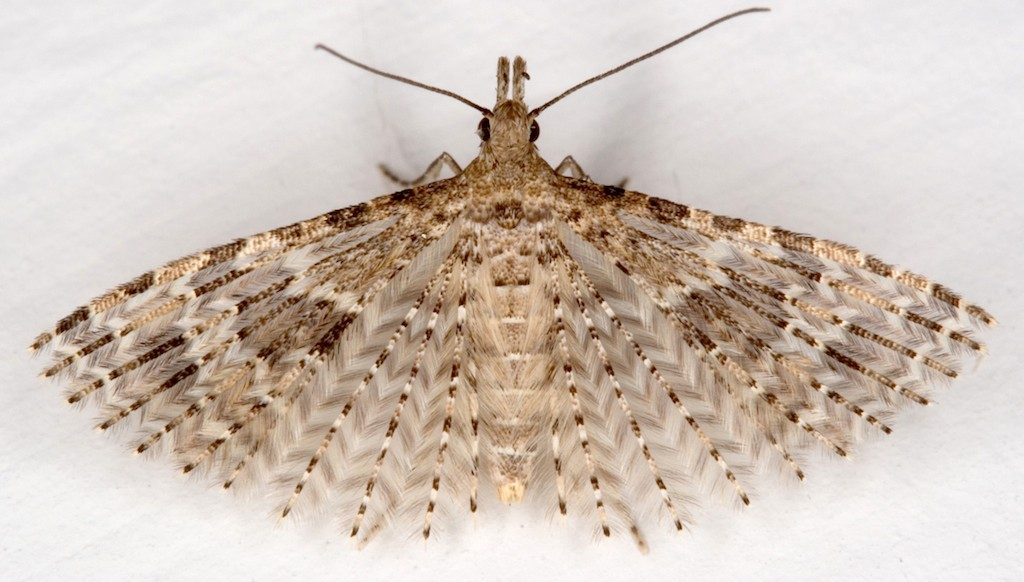Alucitidae: (21, 8, 996, 558)
moth: (19, 6, 994, 556)
